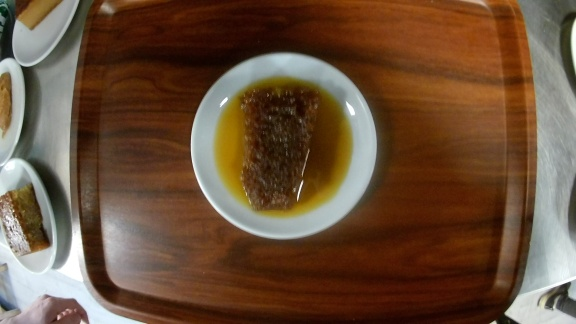ekmekkadayifi: (192, 51, 376, 239)
